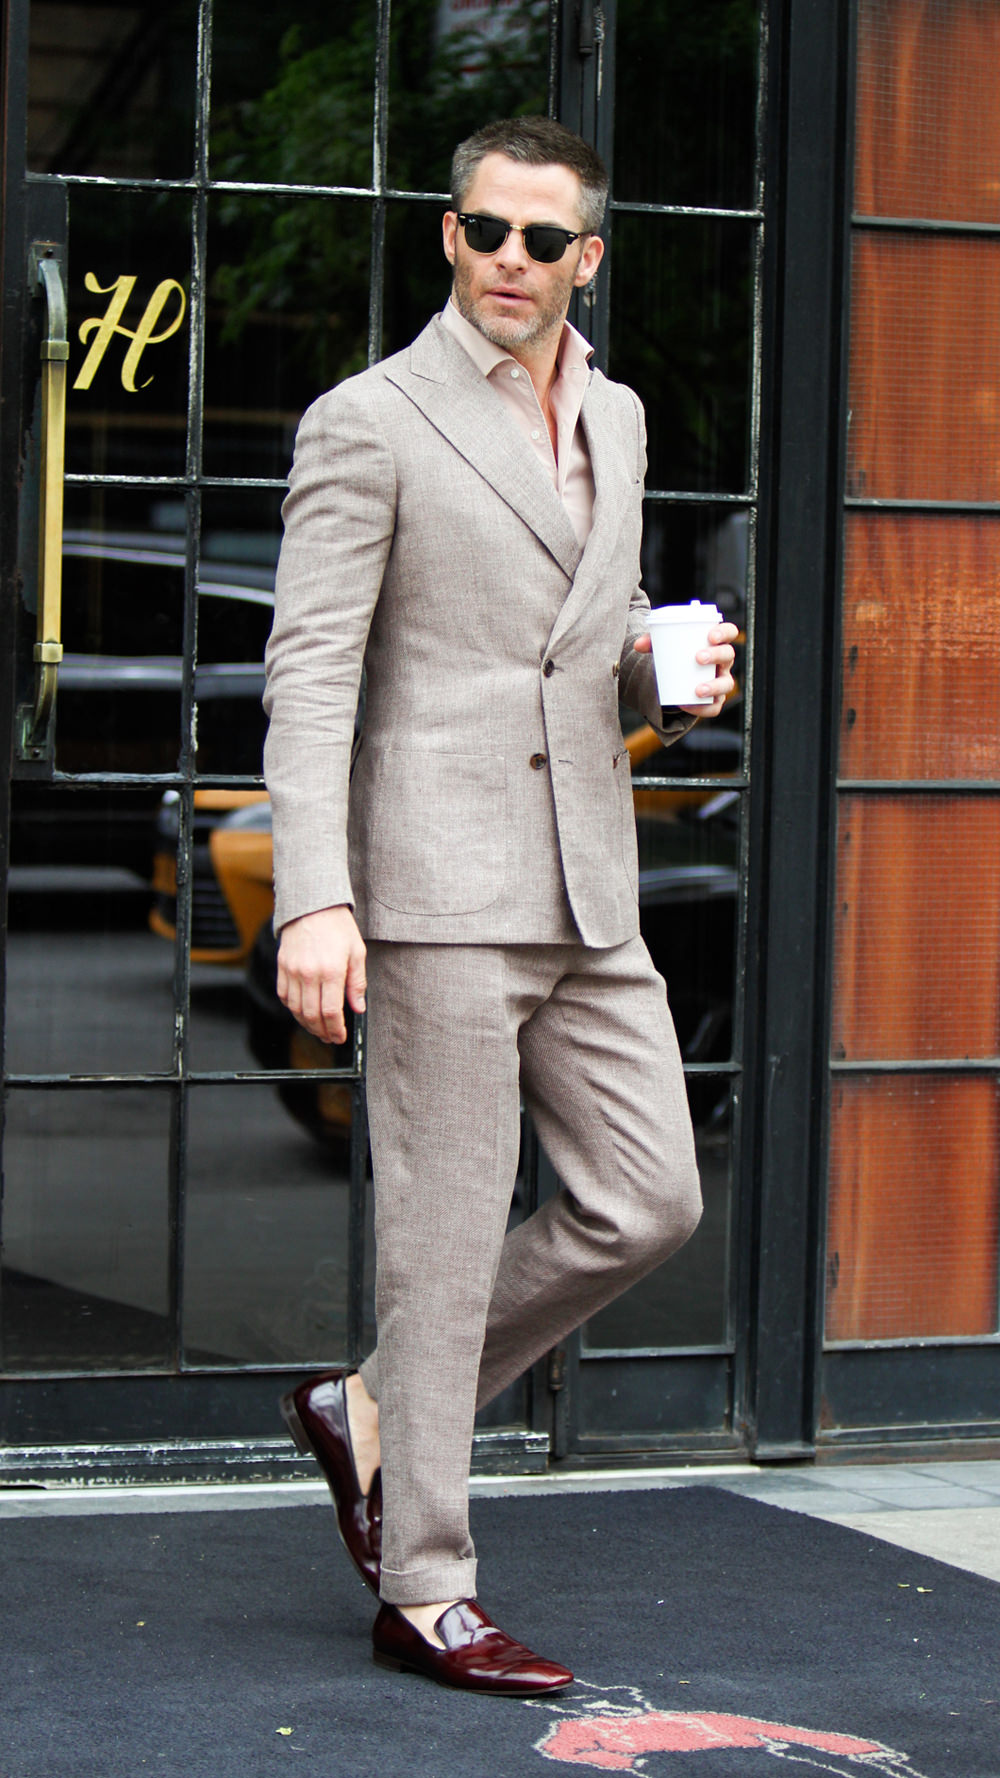Person: (261, 113, 734, 1698)
